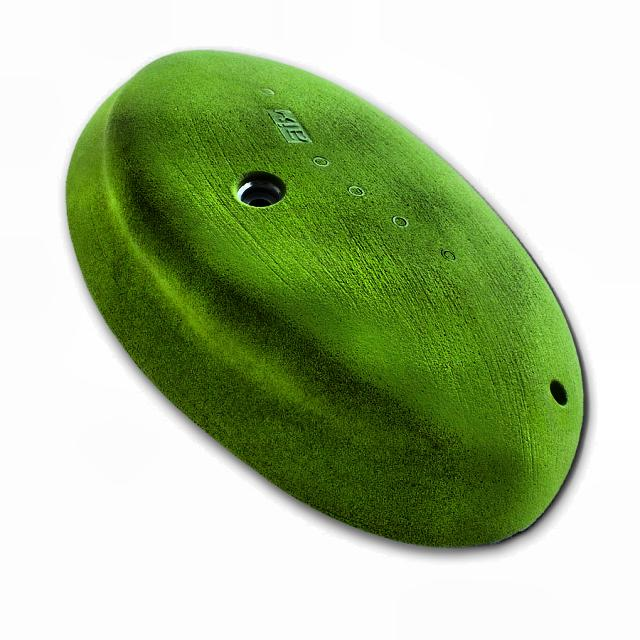Hold: (62, 45, 588, 552)
